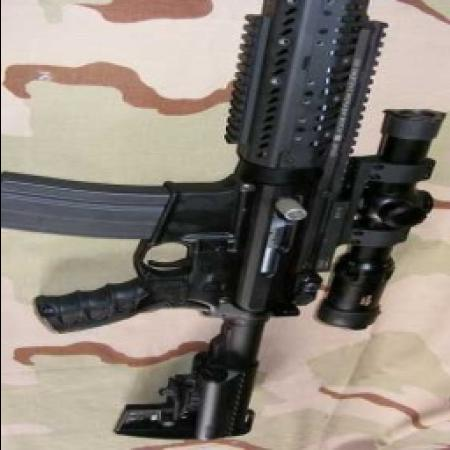long weapon: (5, 14, 445, 450)
